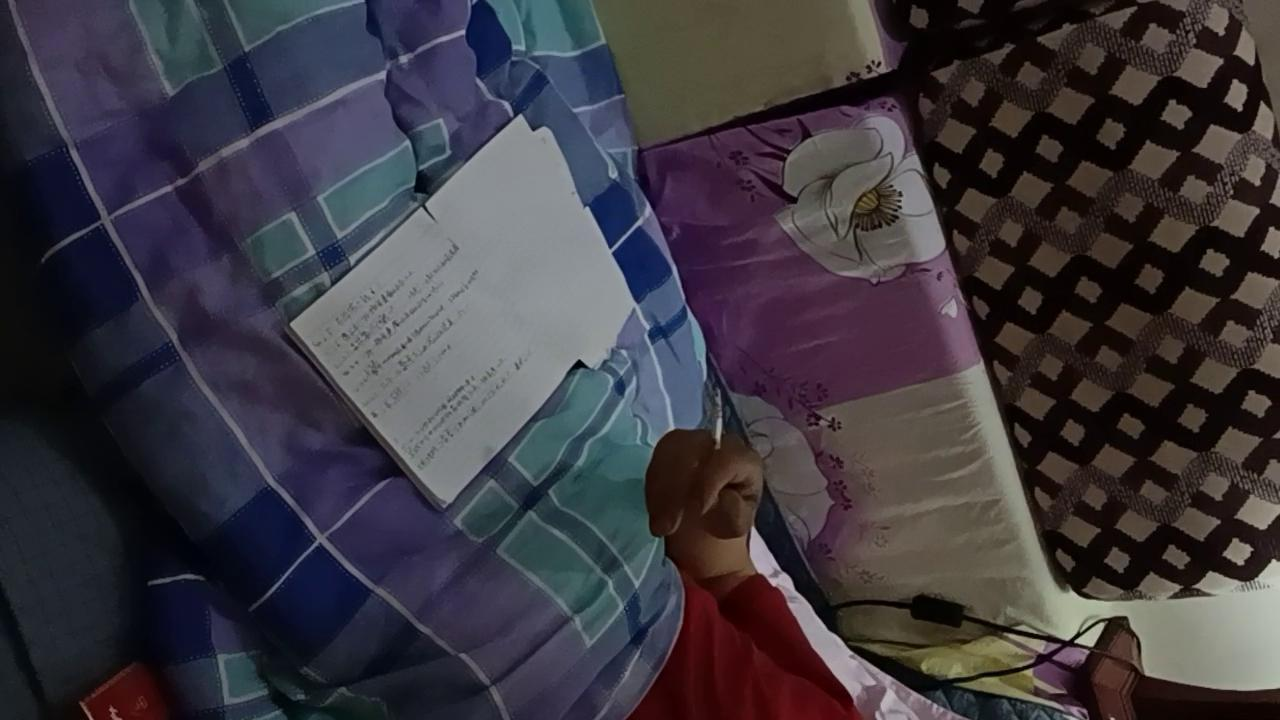smoke: (711, 389, 722, 463)
